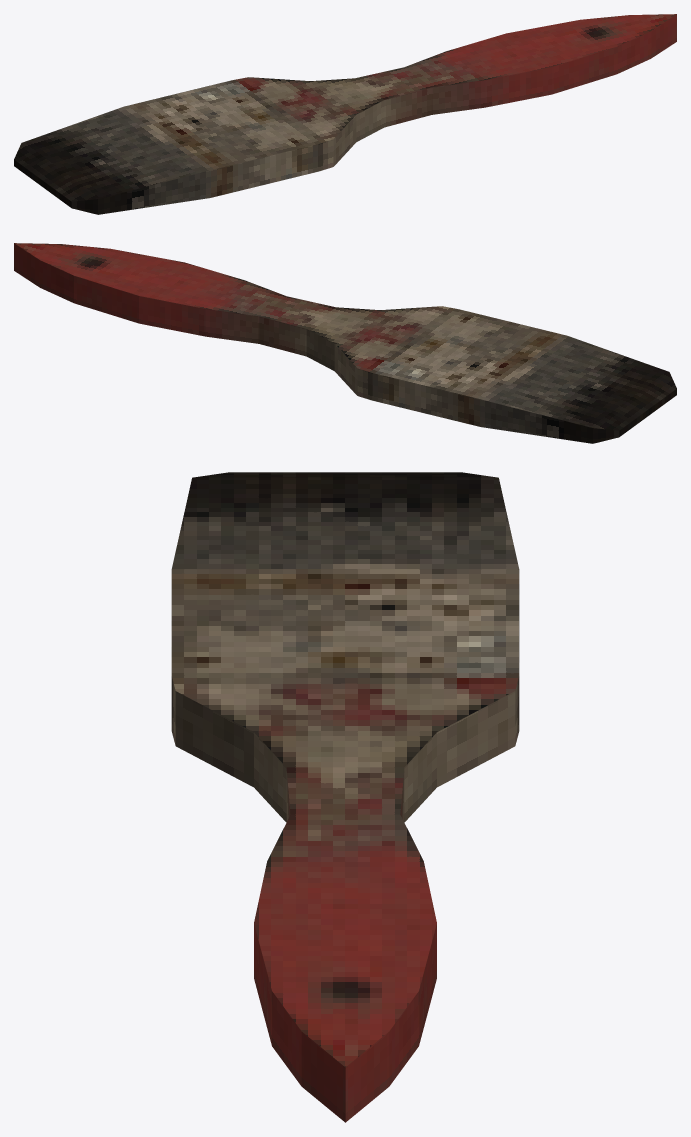
Rendered from paint_brush_mr_1.glb.
3 renders of one model, top to bottom at view 1: azimuth 30°, elevation 25°; view 2: azimuth 150°, elevation 25°; view 3: azimuth 270°, elevation 25°, orthographic. The views are drawn at different scales.
Visible parts, largest first — view 1: paint_brush_mr_1; view 2: paint_brush_mr_1; view 3: paint_brush_mr_1.
Part boxes in pixels (x1,y1,x2,y2): paint_brush_mr_1: (14, 14, 676, 214); paint_brush_mr_1: (14, 243, 676, 443); paint_brush_mr_1: (171, 472, 519, 1122).
Bounding box in the file's own units: 0.36 × 0.015 × 0.0855.
Materials: 1 (1 with a texture image).
